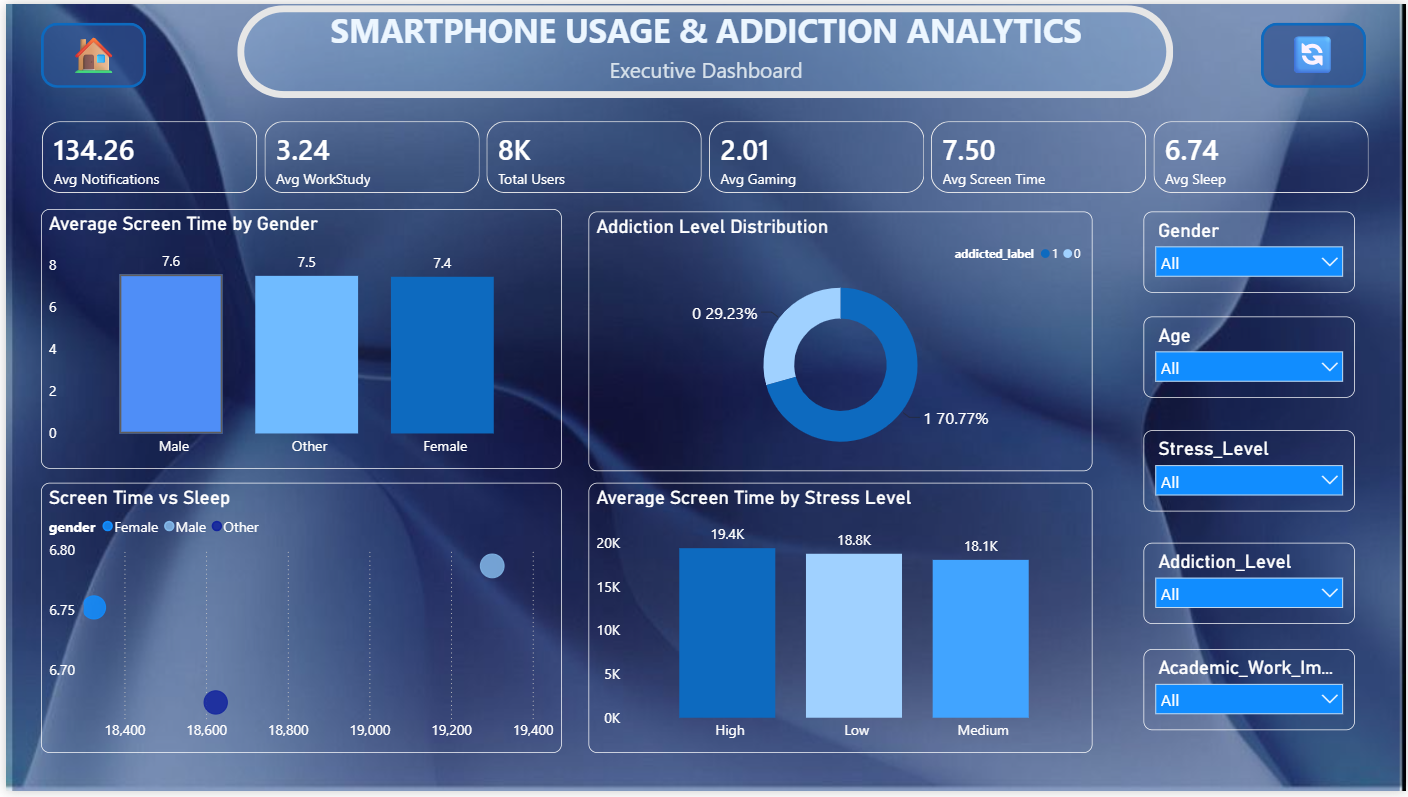

This screenshot's page, from the dashboard's own definition file:
{"tool":"powerbi","page":{"name":"Executive","canvas":[1600,900],"ordinal":1},"visuals":[{"type":"textbox","box":[0,0,1600.3,65.4],"z":0},{"type":"textbox","box":[0,53.8,1600.3,52.3],"z":1000},{"type":"shape","box":[264.5,1.5,1069.8,106.1],"z":2000},{"type":"cardVisual","fields":{"Data":["Smartphone_Usage_Cleaned.Avg Notifications","Smartphone_Usage_Cleaned.Avg WorkStudy","Smartphone_Usage_Cleaned.Total Users","Smartphone_Usage_Cleaned.Avg Gaming","Smartphone_Usage_Cleaned.Avg Screen Time","Smartphone_Usage_Cleaned.Avg Sleep"]},"box":[24.7,117.7,1552.3,116.3],"z":3000},{"type":"clusteredColumnChart","title":"Average Screen Time by Gender","fields":{"Category":["Smartphone_Usage_Cleaned.gender"],"Y":["Avg(Smartphone_Usage_Cleaned.daily_screen_time_hours)"]},"box":[39.5,235,595.2,296.7],"z":4000},{"type":"donutChart","title":"Addiction Level Distribution","fields":{"Category":["Smartphone_Usage_Cleaned.addicted_label"],"Y":["CountNonNull(Smartphone_Usage_Cleaned.user_id)"]},"box":[665.5,236.7,576.3,296.7],"z":5000},{"type":"scatterChart","title":"Screen Time vs Sleep","fields":{"X":["Sum(Smartphone_Usage_Cleaned.daily_screen_time_hours)"],"Y":["Avg(Smartphone_Usage_Cleaned.sleep_hours)"],"Series":["Smartphone_Usage_Cleaned.gender"],"Size":["Sum(Smartphone_Usage_Cleaned.notifications_per_day)"]},"box":[39.5,547.2,595.2,308.7],"z":6000},{"type":"columnChart","title":"Average Screen Time by Stress Level","fields":{"Category":["Smartphone_Usage_Cleaned.stress_level"],"Y":["Sum(Smartphone_Usage_Cleaned.daily_screen_time_hours)"]},"box":[665.5,547.2,576.3,308.7],"z":7000},{"type":"slicer","fields":{"Values":["Smartphone_Usage_Cleaned.gender"]},"box":[1300.2,236.7,241.9,92.6],"z":8000},{"type":"slicer","fields":{"Values":["Smartphone_Usage_Cleaned.age"]},"box":[1300.2,356.8,241.9,92.6],"z":9000},{"type":"slicer","fields":{"Values":["Smartphone_Usage_Cleaned.stress_level"]},"box":[1300.2,487.1,241.9,92.6],"z":10000},{"type":"slicer","fields":{"Values":["Smartphone_Usage_Cleaned.addiction_level"]},"box":[1300.2,615.8,241.9,92.6],"z":11000},{"type":"slicer","fields":{"Values":["Smartphone_Usage_Cleaned.academic_work_impact"]},"box":[1300.2,737.6,241.9,92.6],"z":12000},{"type":"shape","box":[40,21.4,120,74.3],"z":13000},{"type":"shape","box":[1434.3,21.4,120,74.3],"z":14000},{"type":"textbox","box":[65.4,21.5,69.2,75.4],"z":15000},{"type":"textbox","box":[1459.1,21.8,70,75.5],"z":16000}]}

Visuals, with their boxes in screenshot pixels (x1, y1, x2, y2), scaled from the page's 1600x900 canvas onto the 1408x797 screenshot:
textbox: [x1=0, y1=0, x2=1407, y2=58]
textbox: [x1=0, y1=48, x2=1407, y2=94]
shape: [x1=233, y1=1, x2=1174, y2=95]
cardVisual - Smartphone_Usage_Cleaned.Avg Notifications x Smartphone_Usage_Cleaned.Avg WorkStudy: [x1=22, y1=104, x2=1388, y2=207]
"Average Screen Time by Gender" clusteredColumnChart: [x1=35, y1=208, x2=559, y2=471]
"Addiction Level Distribution" donutChart: [x1=586, y1=210, x2=1093, y2=472]
"Screen Time vs Sleep" scatterChart: [x1=35, y1=485, x2=559, y2=758]
"Average Screen Time by Stress Level" columnChart: [x1=586, y1=485, x2=1093, y2=758]
slicer - Smartphone_Usage_Cleaned.gender: [x1=1144, y1=210, x2=1357, y2=292]
slicer - Smartphone_Usage_Cleaned.age: [x1=1144, y1=316, x2=1357, y2=398]
slicer - Smartphone_Usage_Cleaned.stress_level: [x1=1144, y1=431, x2=1357, y2=513]
slicer - Smartphone_Usage_Cleaned.addiction_level: [x1=1144, y1=545, x2=1357, y2=627]
slicer - Smartphone_Usage_Cleaned.academic_work_impact: [x1=1144, y1=653, x2=1357, y2=735]
shape: [x1=35, y1=19, x2=141, y2=85]
shape: [x1=1262, y1=19, x2=1368, y2=85]
textbox: [x1=58, y1=19, x2=118, y2=86]
textbox: [x1=1284, y1=19, x2=1346, y2=86]
